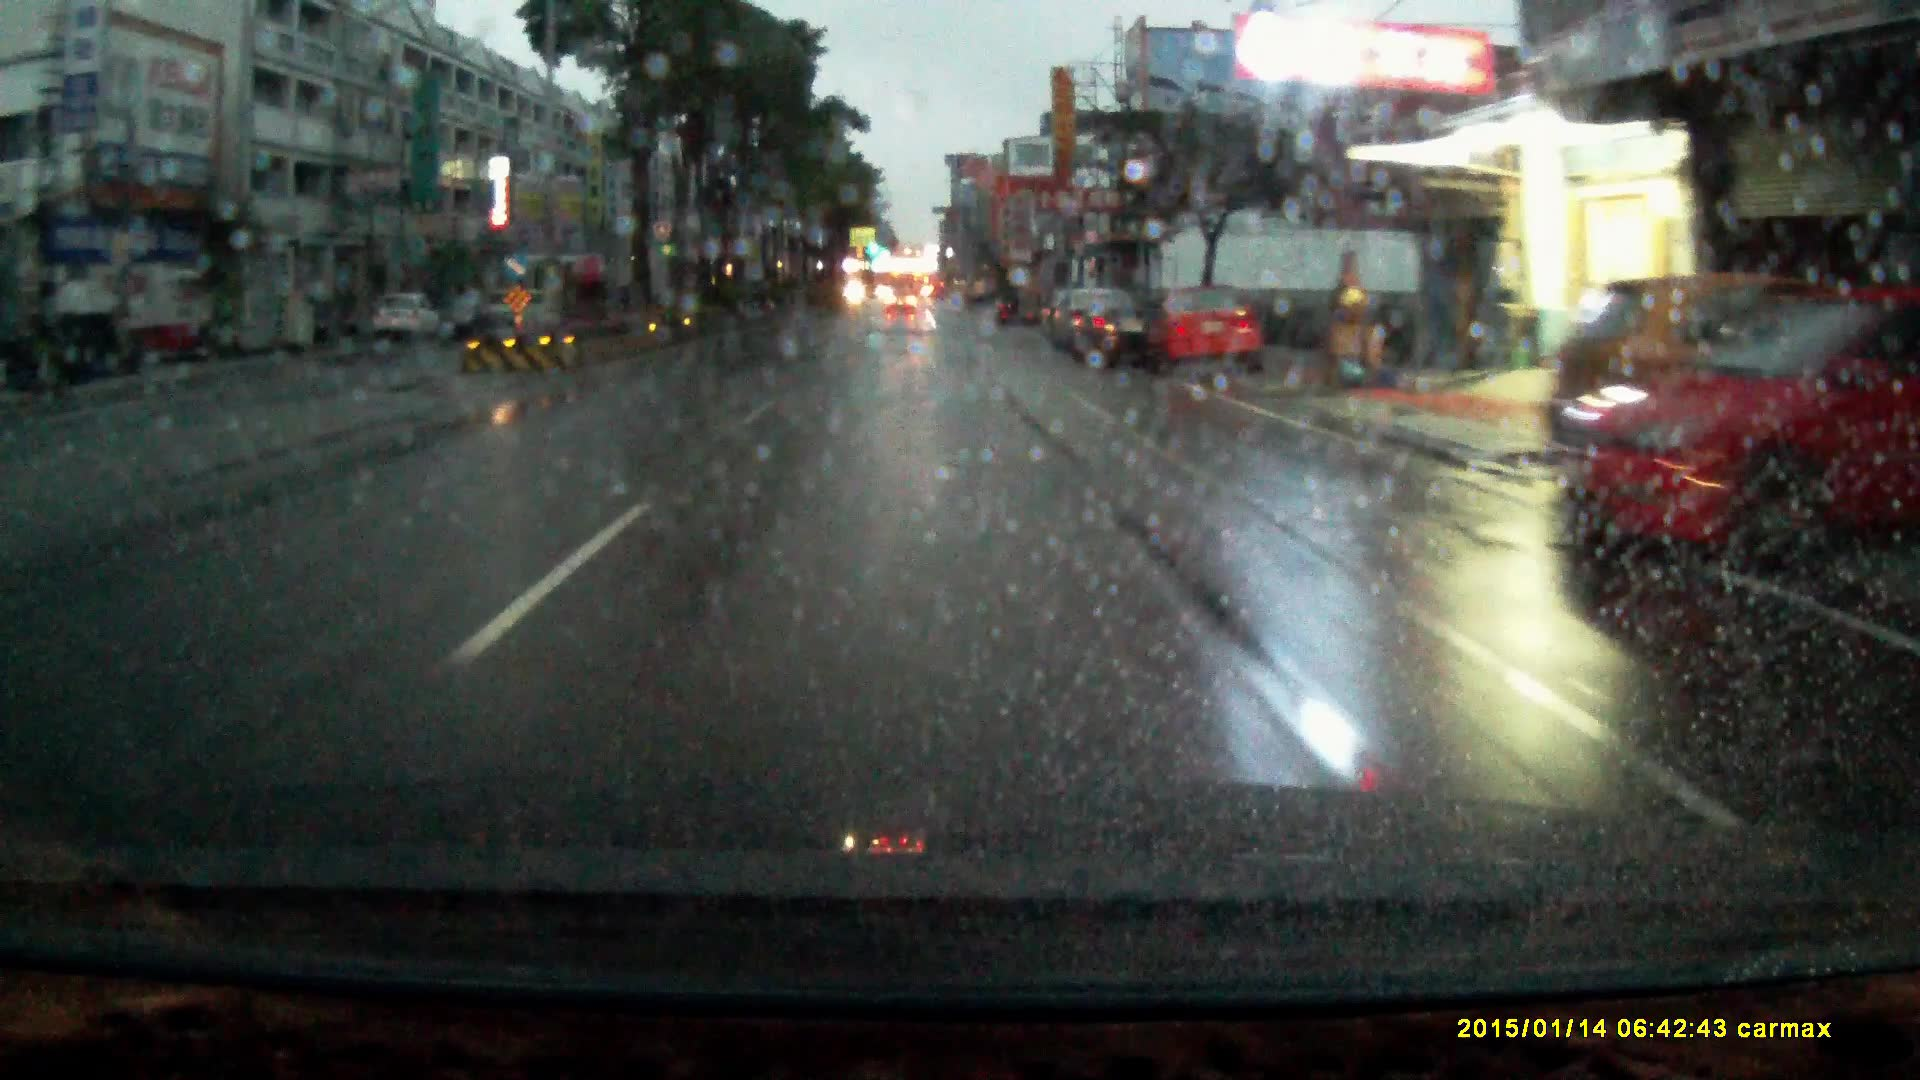vehicle: (1551, 285, 1912, 564), (1139, 293, 1265, 388), (1063, 297, 1150, 378), (369, 289, 444, 345), (480, 286, 556, 334), (1043, 289, 1063, 344), (887, 290, 918, 316)
